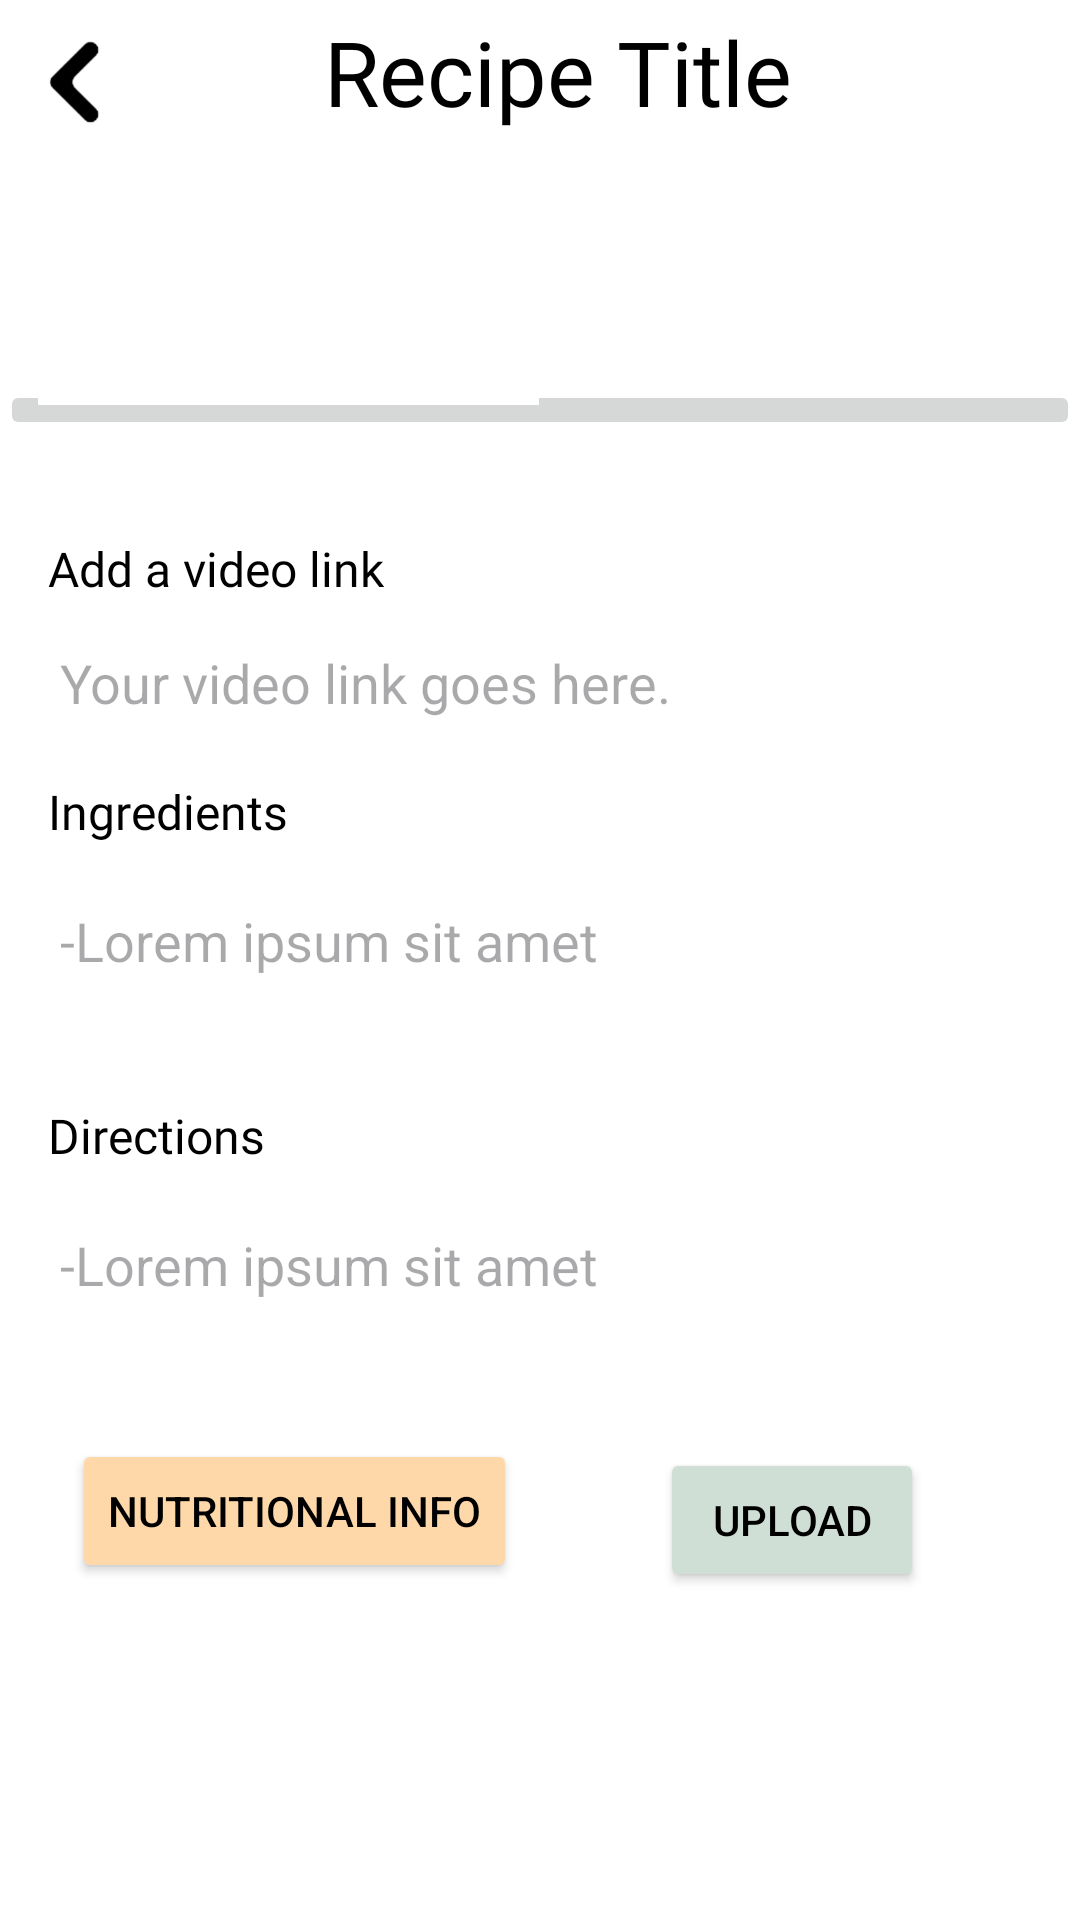

Named icons in this screenshot (1080w x 1920h) and their bounding boxes, Rect(x1, y1, x2, y2):
flecha: Rect(50, 41, 99, 123)
